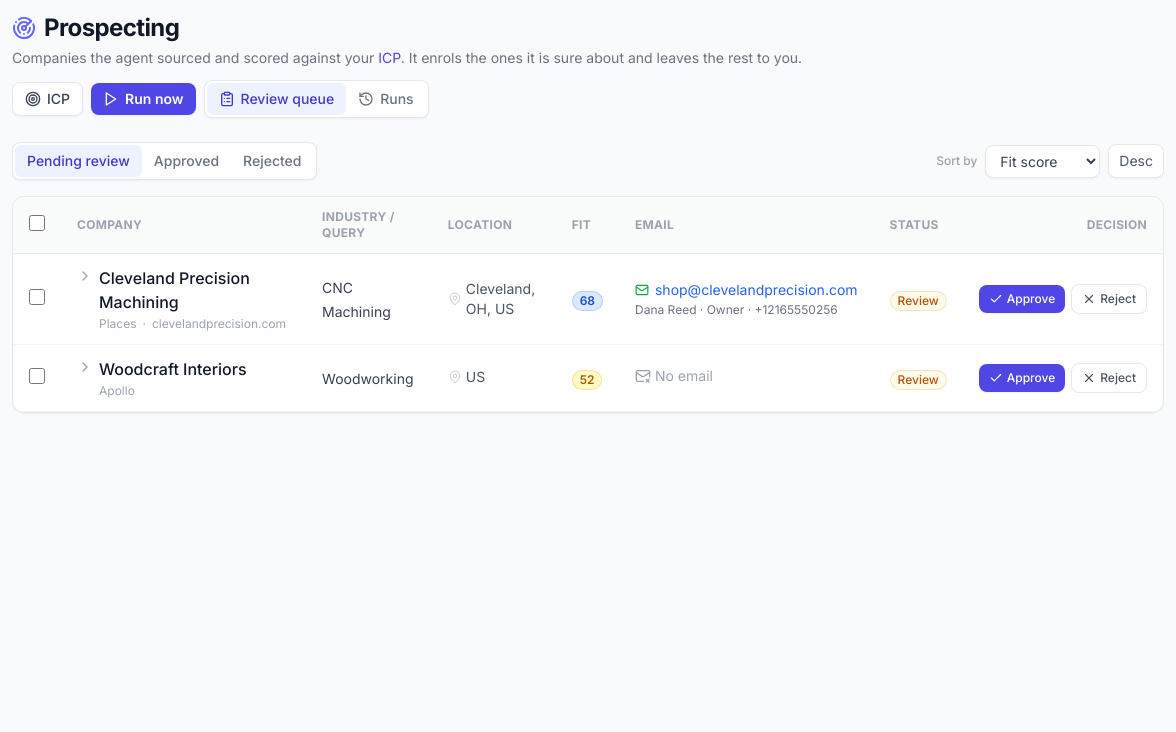
Test: Prospecting page › says so plainly when a candidate was scored on rules alone
Step 1. Click the button named "show why Woodcraft Interiors scored 52" → [85, 367], box [77,359,93,375]
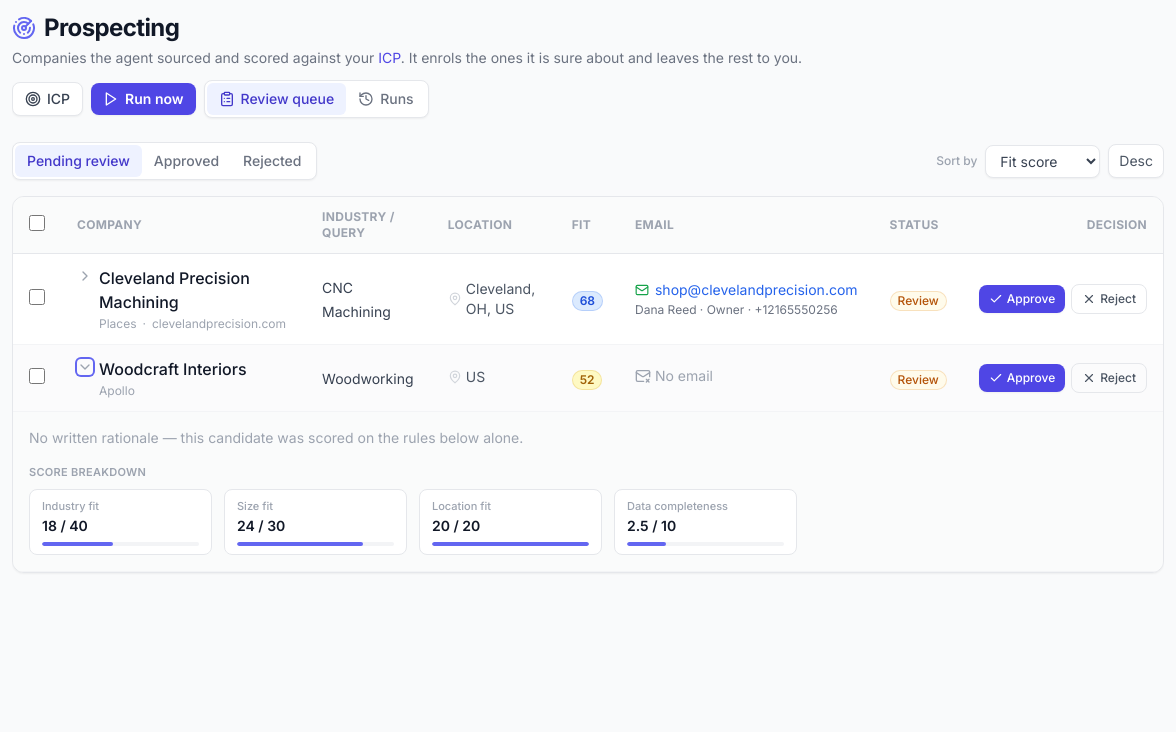
expect the text "scored on the rules below alone" is shown: met, box [29,429,523,446]
expect the text "18 / 40" is shown: met, box [42,517,88,534]
